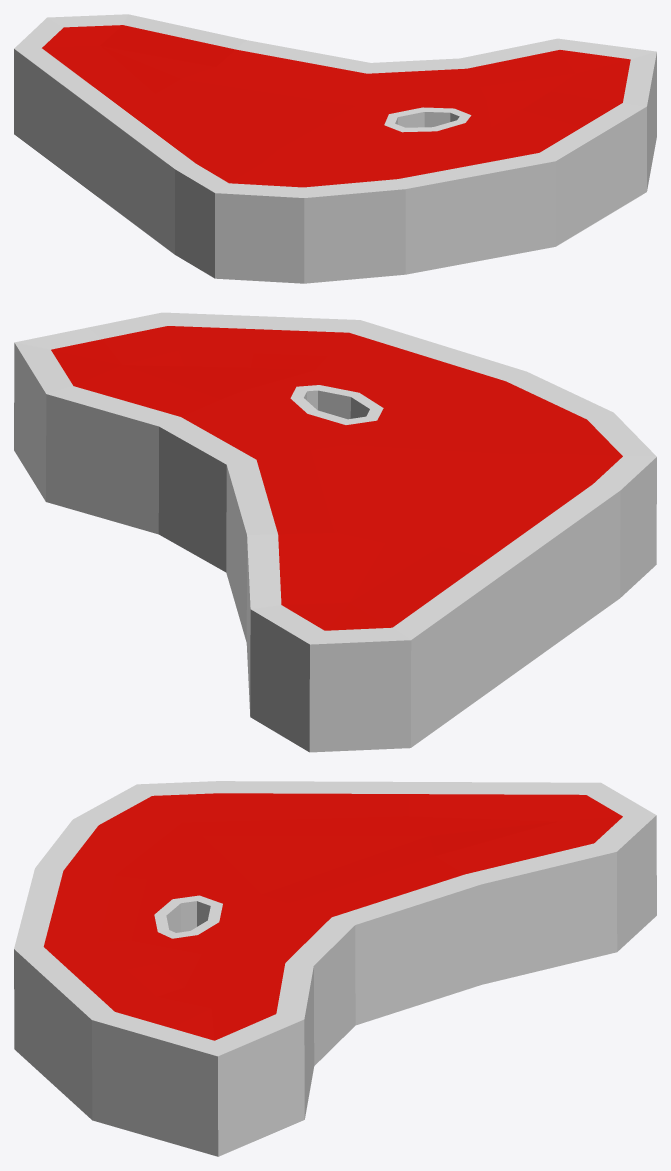
Rendered from Steak.fbx.
3 renders of one model, top to bottom at view 1: azimuth 30°, elevation 25°; view 2: azimuth 150°, elevation 25°; view 3: azimuth 270°, elevation 25°, orthographic. The views are drawn at different scales.
Visible parts, largest first — view 1: Plane; view 2: Plane; view 3: Plane.
Part boxes in pixels (<box>): Plane: <box>14,14,656,283</box>; Plane: <box>14,312,656,752</box>; Plane: <box>14,781,656,1156</box>.
Size of the model in its own units: 132 by 22.89 by 130.
